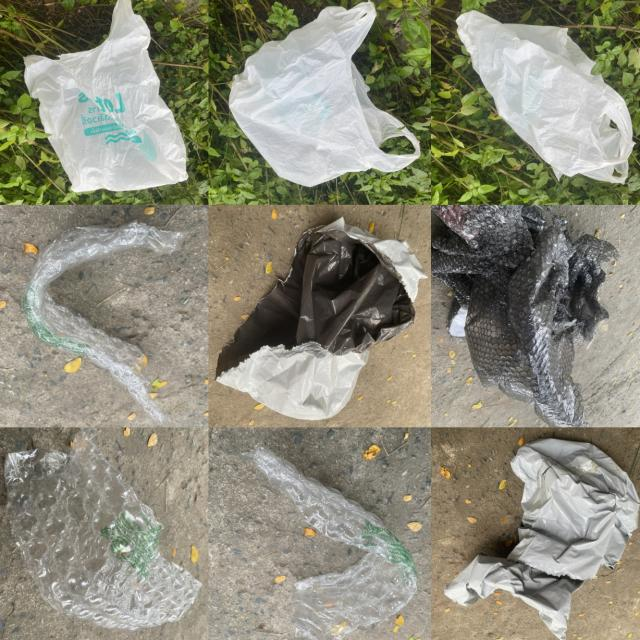plastik: (217, 218, 427, 420), (432, 206, 620, 427), (4, 428, 201, 630), (445, 439, 639, 640), (230, 2, 420, 187), (240, 446, 418, 640), (22, 221, 187, 426), (24, 0, 188, 192), (457, 12, 634, 183)
